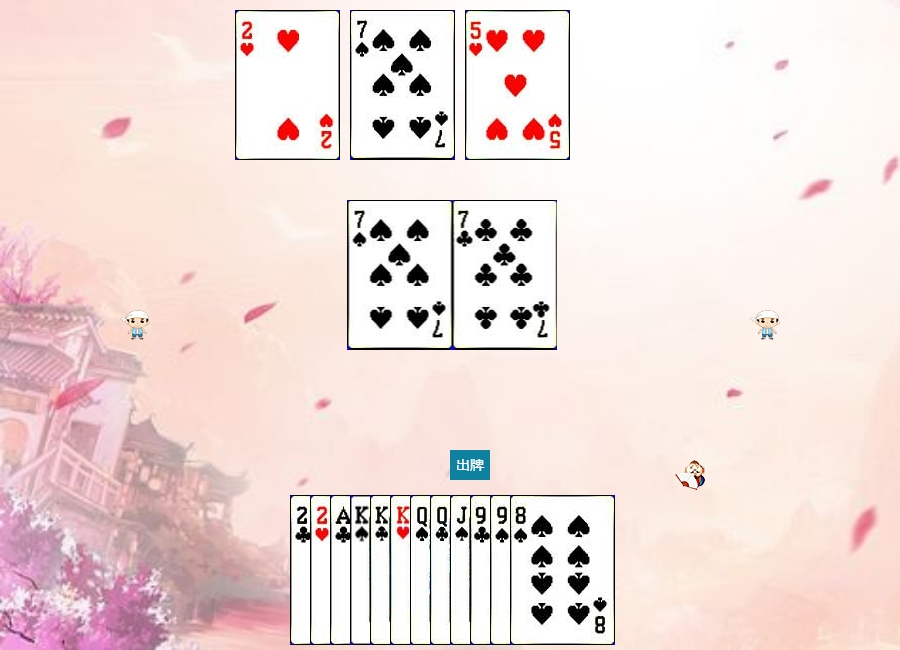11~4: (450, 495, 555, 645)
12~2: (430, 495, 535, 645)
12~4: (410, 495, 515, 645)
13~2: (370, 495, 475, 645)
13~3: (390, 495, 495, 645)
13~4: (350, 495, 455, 645)
14~2: (330, 495, 435, 645)
15~2: (290, 495, 395, 645)
15~3: (235, 10, 340, 160), (310, 495, 415, 645)
5~3: (465, 10, 570, 160)
7~2: (453, 200, 558, 350)
7~4: (350, 10, 455, 160), (348, 200, 453, 350)
8~4: (510, 495, 615, 645)
9~2: (470, 495, 575, 645)
9~4: (490, 495, 595, 645)
